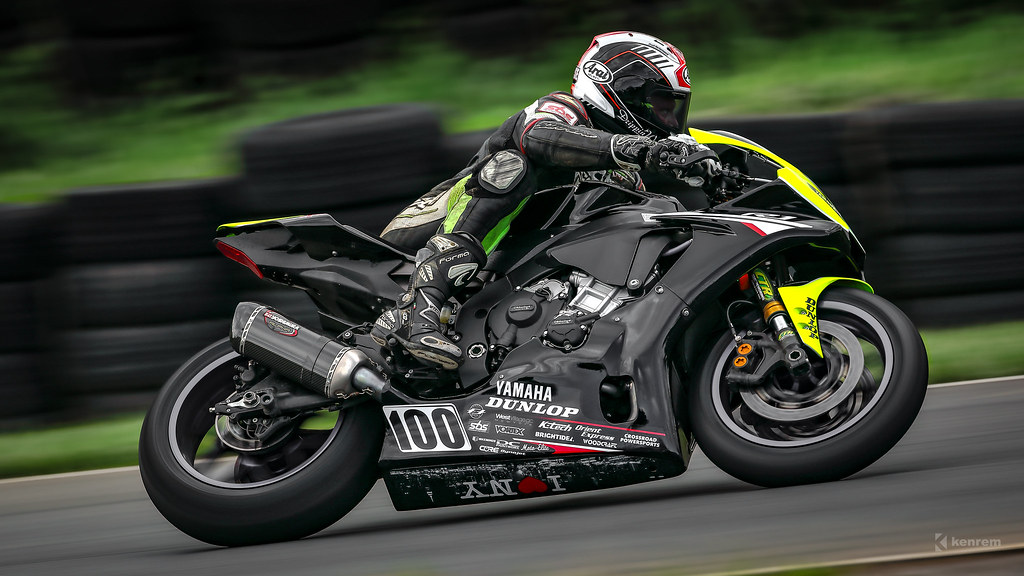helmet: (580, 22, 698, 137)
